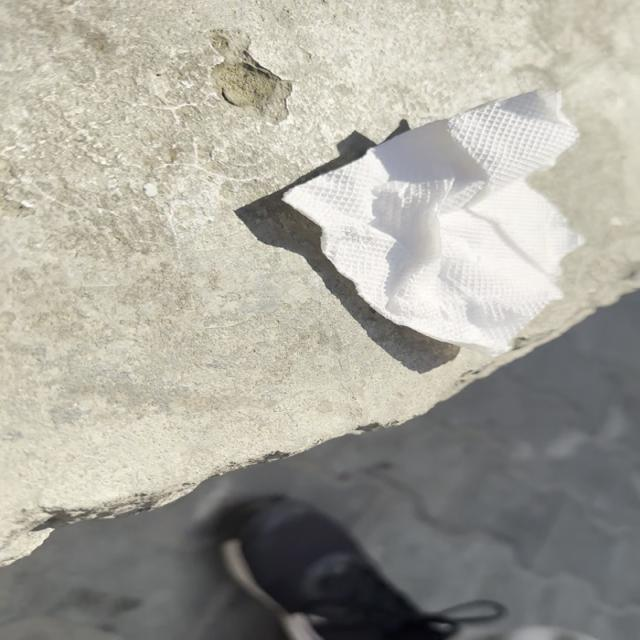tissue: (279, 86, 602, 358)
